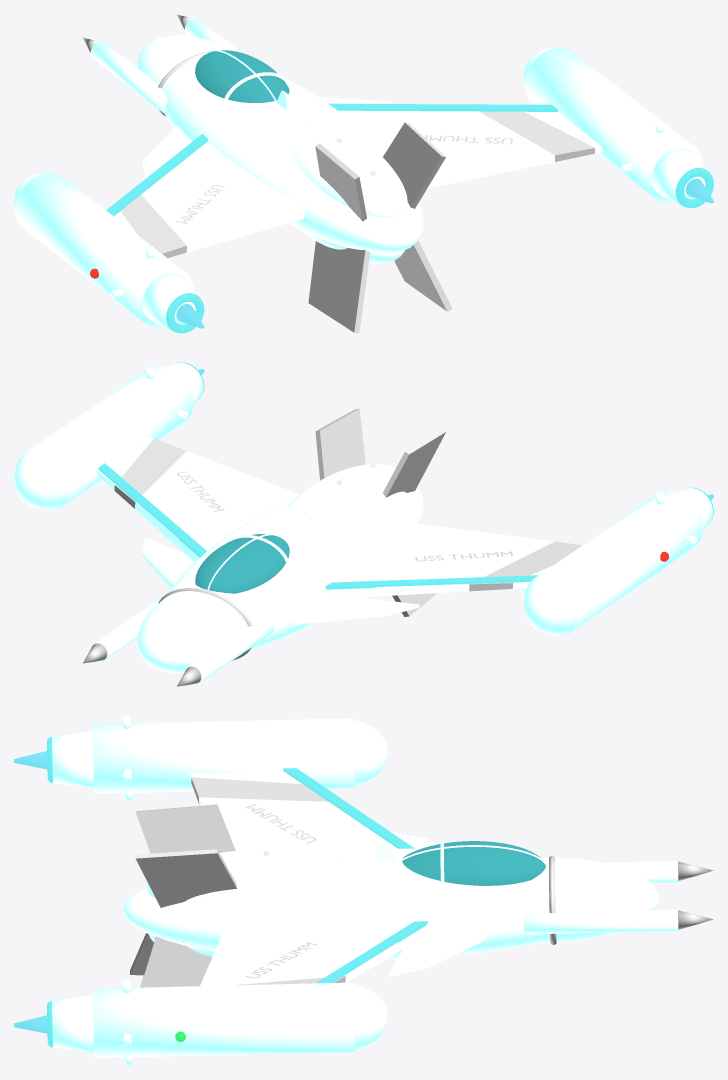
Rendered from ship.glb.
3 views of the same model, one above another, from view 1: azimuth 30°, elevation 25°; view 2: azimuth 150°, elevation 25°; view 3: azimuth 270°, elevation 25° (orthographic). The views are drawn at different scales.
Parts seen in each view (by area): view 1: Fuselage, NacelleL, NacelleR, WingL, WingR, Dorsal, FinBottomL, Canopy, FinR, NoseAccent, WingStripeR, WingStripeL (+13 smaller); view 2: Fuselage, NacelleL, NacelleR, WingL, WingR, NoseAccent, Dorsal, Canopy, NacelleCapL, NacelleCapR, FinR, SubWingL (+11 smaller); view 3: Fuselage, NacelleR, NacelleL, WingR, WingL, NoseAccent, Dorsal, Canopy, FinR, FinL, ProngR, FinBottomR (+10 smaller).
Boxes of the visible parts, box(x1,y1,x2,y2) form: Fuselage: box(162, 70, 423, 253); NacelleL: box(15, 173, 193, 327); NacelleR: box(524, 47, 703, 202); WingL: box(141, 142, 306, 252); WingR: box(338, 110, 554, 188); Dorsal: box(286, 118, 407, 217); FinBottomL: box(308, 241, 370, 333); Canopy: box(195, 50, 289, 102); FinR: box(383, 122, 445, 208); NoseAccent: box(137, 35, 231, 87); WingStripeR: box(479, 111, 594, 161); WingStripeL: box(120, 195, 186, 257); Fuselage: box(168, 488, 423, 650); NacelleL: box(525, 491, 703, 635); NacelleR: box(15, 365, 193, 510); WingL: box(327, 522, 554, 599); WingR: box(135, 451, 299, 562); NoseAccent: box(137, 584, 251, 673); Dorsal: box(286, 464, 405, 521); Canopy: box(195, 534, 289, 593); NacelleCapL: box(523, 576, 579, 634); NacelleCapR: box(14, 450, 70, 509); FinR: box(315, 408, 365, 480); SubWingL: box(294, 597, 419, 624); Fuselage: box(123, 848, 549, 960); NacelleR: box(92, 982, 355, 1057); NacelleL: box(92, 718, 355, 793); WingR: box(200, 923, 425, 985); WingL: box(199, 797, 397, 851); NoseAccent: box(532, 858, 658, 943); Dorsal: box(147, 848, 350, 902); Canopy: box(402, 841, 545, 885); FinR: box(135, 849, 236, 907); FinL: box(135, 804, 235, 853); ProngR: box(523, 909, 678, 934); FinBottomR: box(140, 936, 212, 987).
Size of the model in its own units: 8.93 by 2.38 by 8.7.
